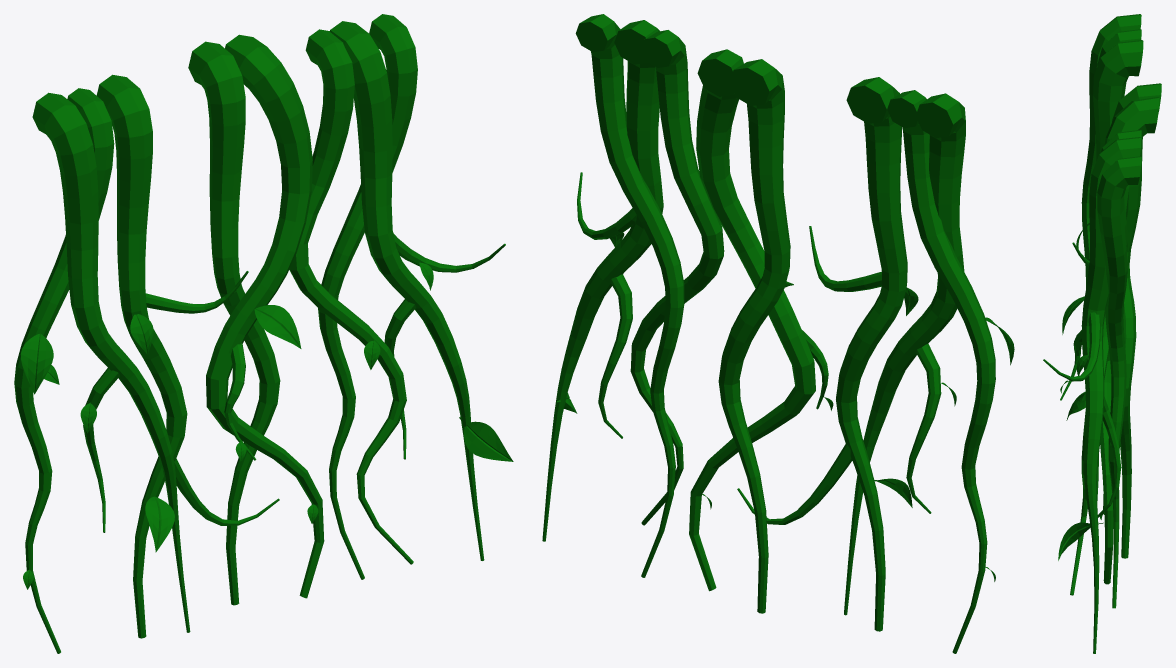
Rendered from Plante T 2_ mesh SANS BOUBOULE.fbx.
3 renders of one model, left to right at view 1: azimuth 30°, elevation 25°; view 2: azimuth 150°, elevation 25°; view 3: azimuth 270°, elevation 25°, orthographic. The views are drawn at different scales.
Parts seen in each view (by area): view 1: Sphère.004; view 2: Sphère.004; view 3: Sphère.004.
Part boxes in pixels (x1=…): Sphère.004: x1=14, y1=14, x2=513, y2=653; Sphère.004: x1=542, y1=14, x2=1014, y2=653; Sphère.004: x1=1043, y1=14, x2=1161, y2=653.
Bounding box in the file's own units: 610 × 684 × 156.
